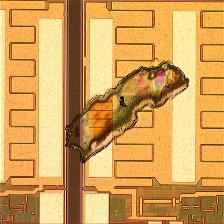PARTICLE: (63, 54, 195, 168)
